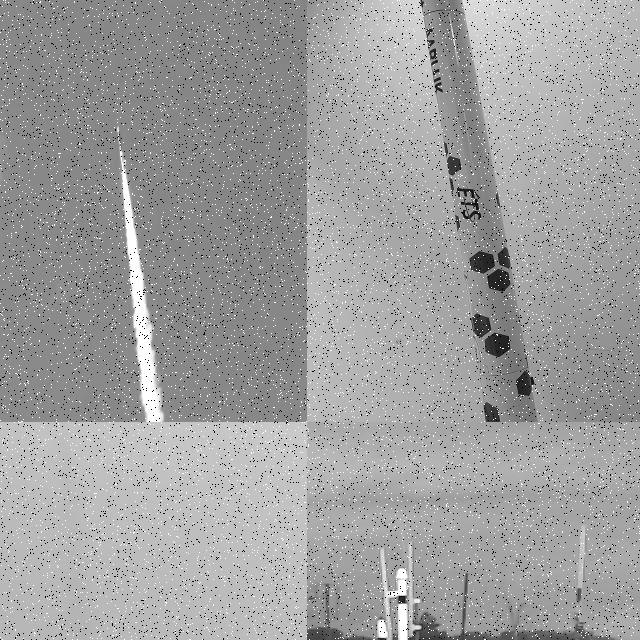Rocket: (420, 0, 538, 422), (393, 566, 411, 640), (373, 616, 394, 640), (117, 127, 126, 169)
